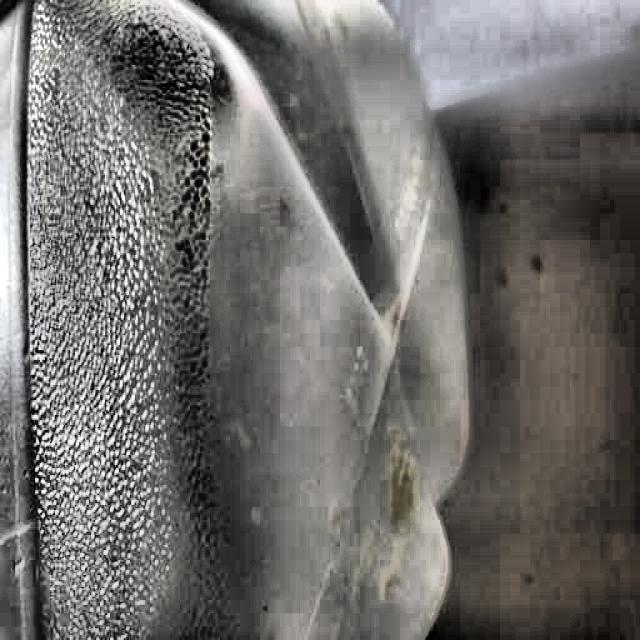plastic: (10, 3, 478, 633)
